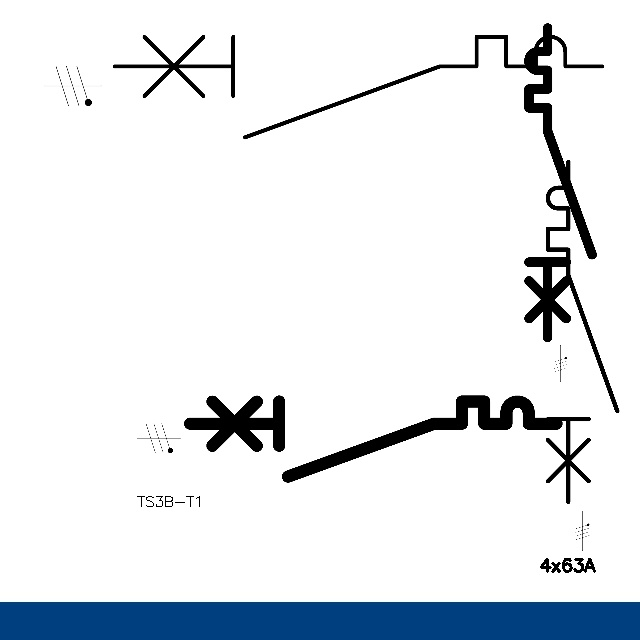interruptor_termomagnetico: (102, 24, 615, 149), (180, 392, 565, 486), (539, 153, 626, 511), (521, 20, 600, 345)
